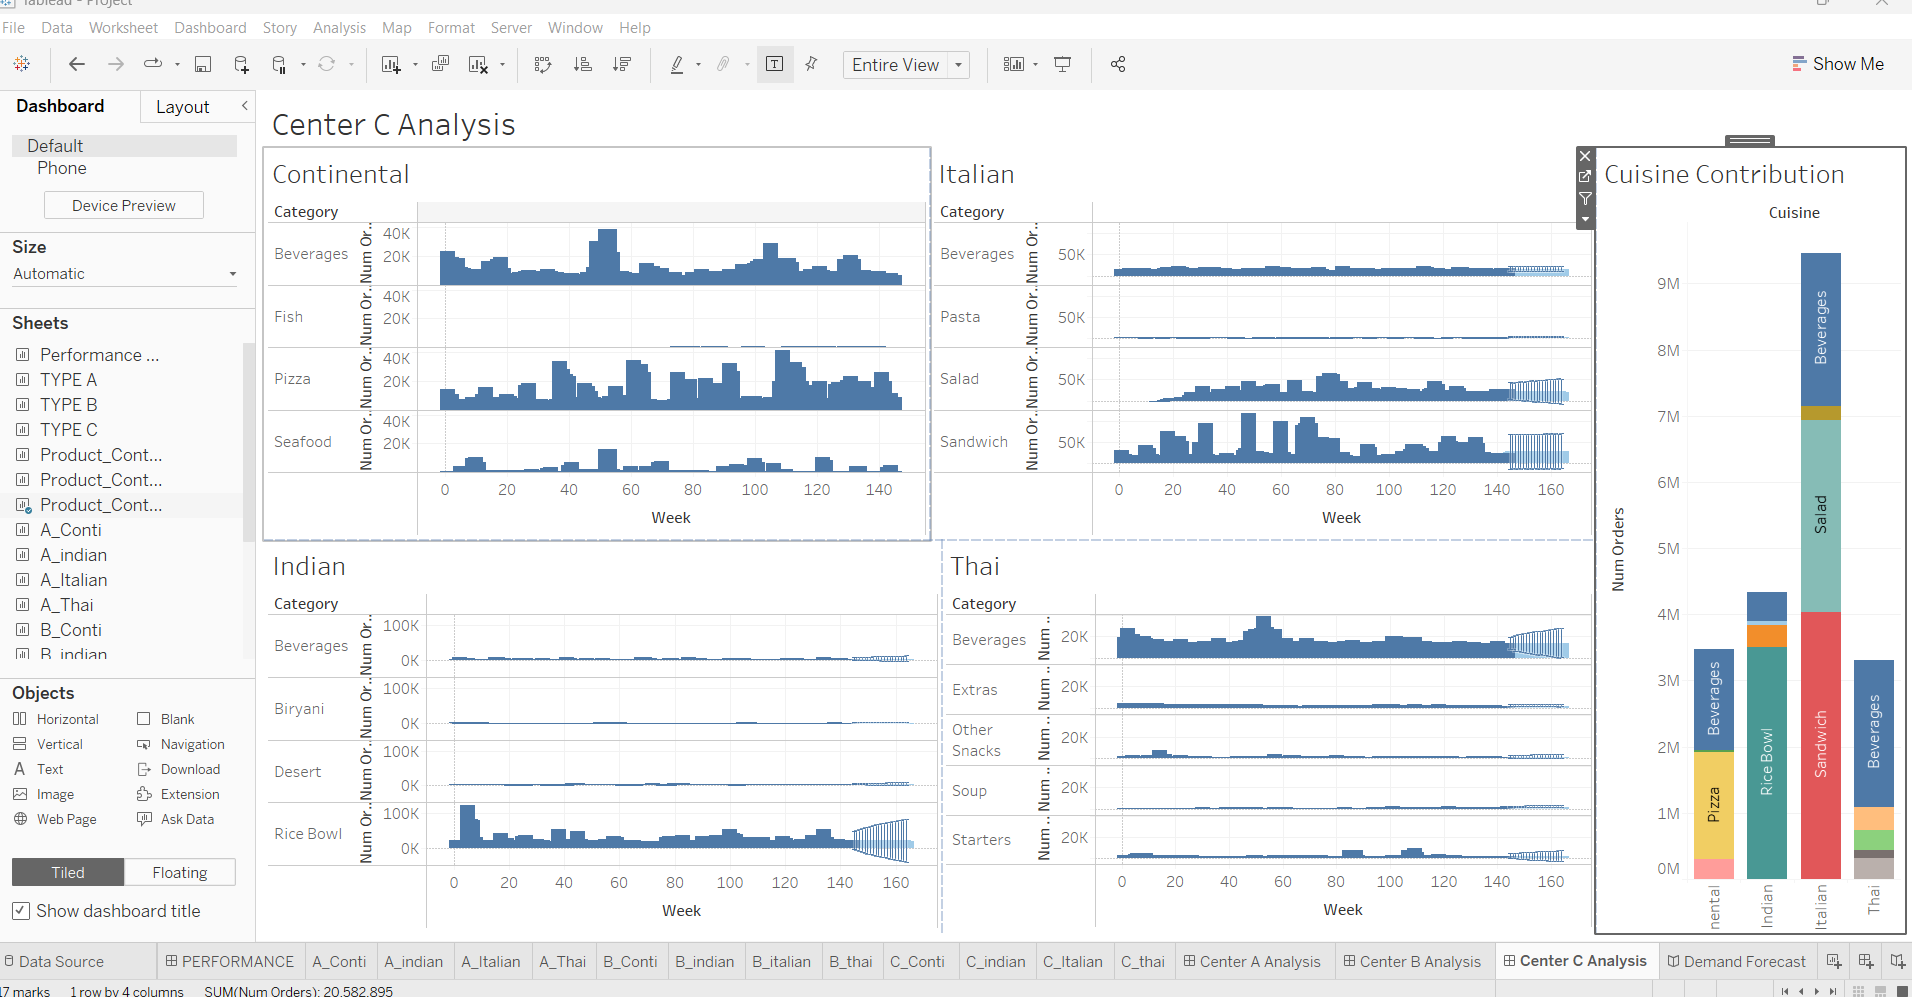

Layout of this report page (visuals, bound fields, positions):
{"tool":"tableau","page":{"name":"Center C Analysis ","canvas":[1000,1000],"units":"permille","ordinal":2},"visuals":[{"type":"worksheet","title":"C_Conti ","mark":"Bar","rows":["category","num_orders"],"cols":["week"],"box":[4.3,9.4,402.4,490.6]},{"type":"worksheet","title":"C_Italian","mark":"Bar","rows":["category","num_orders"],"cols":["week"],"box":[406.7,9.4,402.4,490.6]},{"type":"worksheet","title":"Product_Contri_C","mark":"Automatic","rows":["num_orders"],"cols":["cuisine"],"box":[809.1,9.4,186.6,981.2]},{"type":"worksheet","title":"C_indian","mark":"Bar","rows":["category","num_orders"],"cols":["week"],"box":[4.3,500,409.8,490.6]},{"type":"worksheet","title":"C_thai","mark":"Bar","rows":["category","num_orders"],"cols":["week"],"box":[414.1,500,395.1,490.6]}]}

Visuals, with their boxes on the dashboard's canvas, which has no fixed pixel size, in thousandths of its width and height (x1, y1, x2, y2). These are canvas units, not pixel positions in the 1912x997 screenshot, which may show the page scaled, cropped or inside an application window:
"C_Conti " worksheet (Bar marks): 4,9,407,500
"C_Italian" worksheet (Bar marks): 407,9,809,500
"Product_Contri_C" worksheet: 809,9,996,991
"C_indian" worksheet (Bar marks): 4,500,414,991
"C_thai" worksheet (Bar marks): 414,500,809,991
